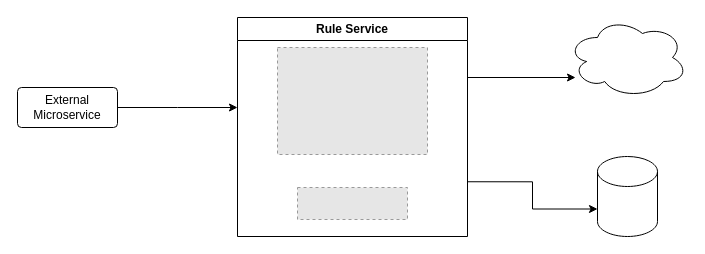
Some shapes in this 705 by 254 pixel diagram are drawn without their labels. Grey dashed boxes stand in for pictures. Here are the shapes that lost their labels. From the top down, the centre of each, then its label:
At (627,57): "Oauth Server".
At (627,196): "Rule DB".
